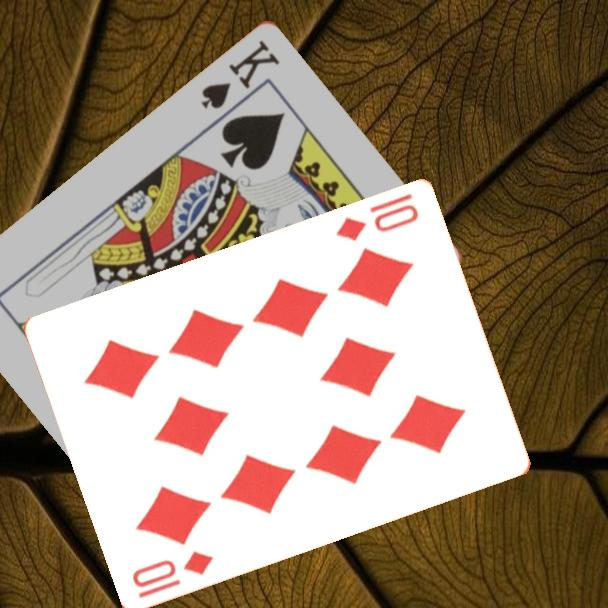d10: (332, 190, 421, 245), (128, 547, 216, 602)
s13: (197, 36, 283, 112)
